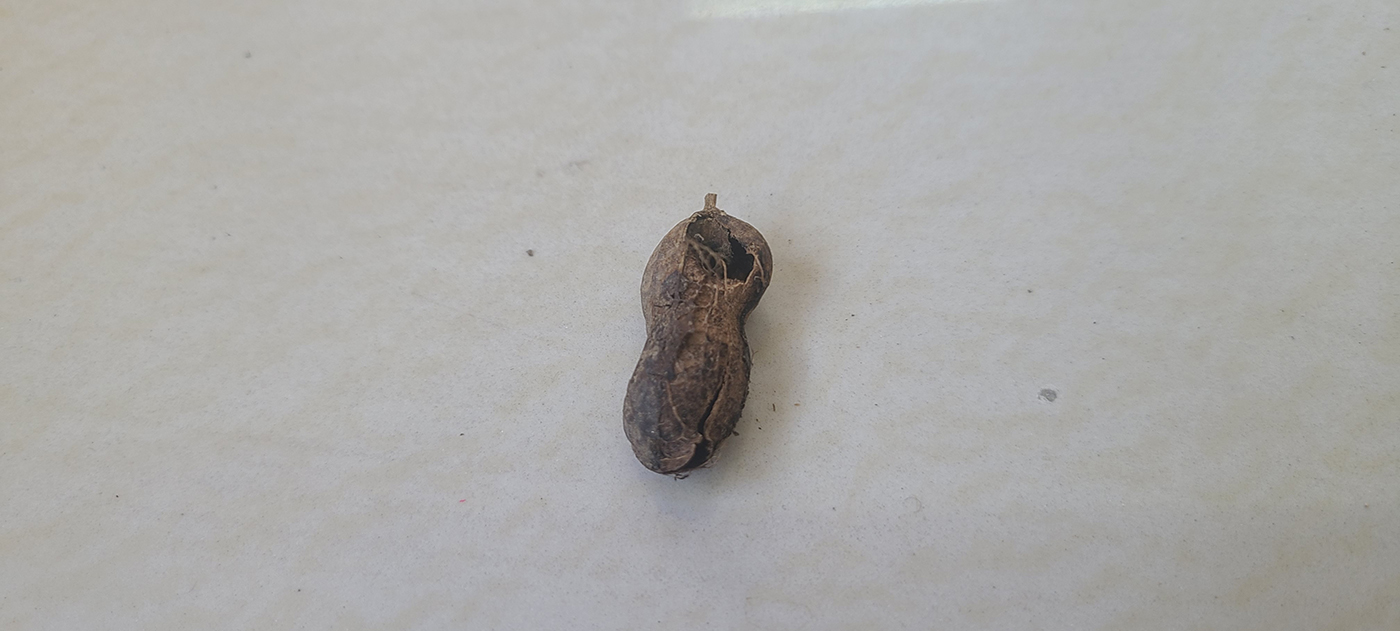l: (619, 204, 778, 477)
